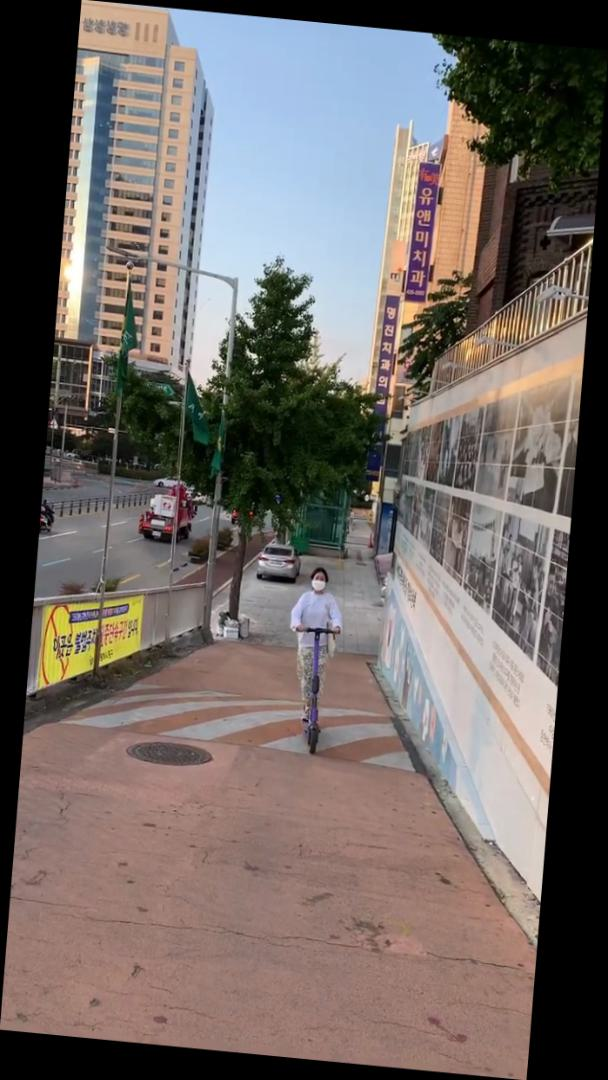nonhelmet: (279, 562, 353, 757)
